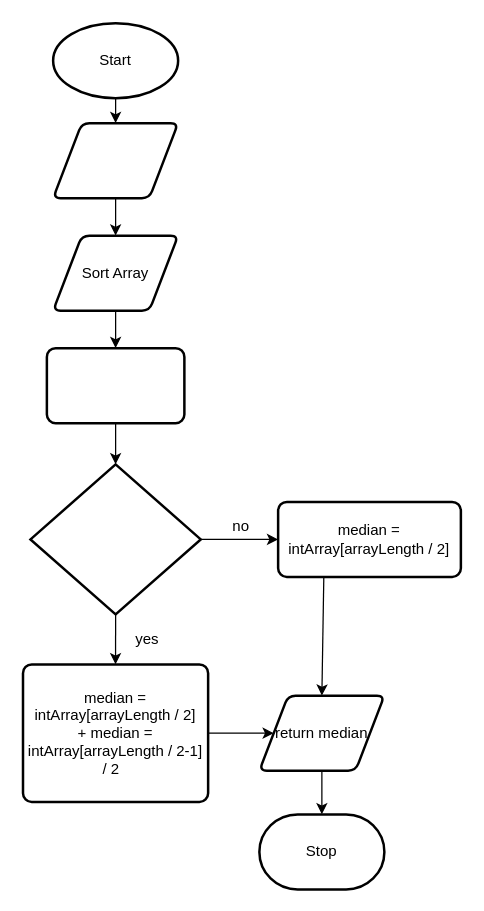
Image size: 484x911. Some labels were removed from this diagram. Each missing label, with the centre of its shape:
"arrayLength = intArray.length" belongs at point 115,385.
"Get Integer[] intArray" belongs at point 115,160.
"If arrayLength % 2 == 0" belongs at point 115,538.
